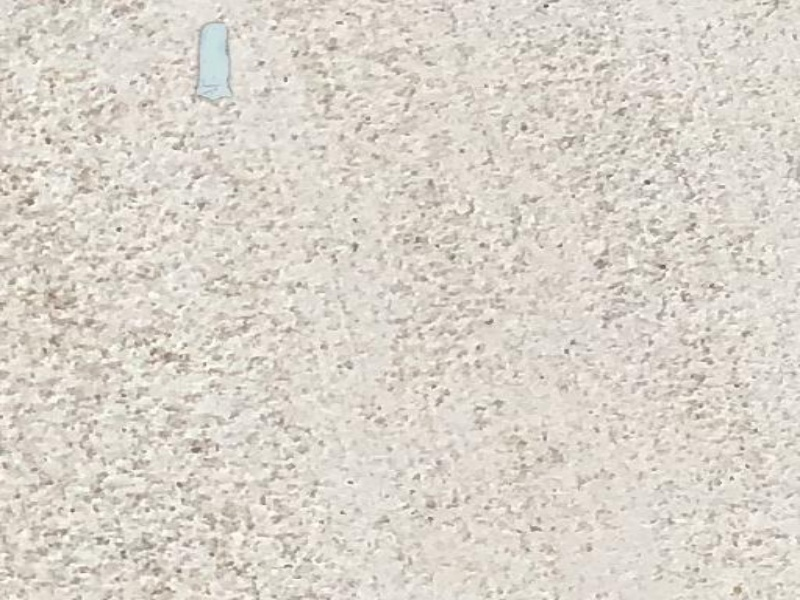cig: (192, 16, 237, 111)
